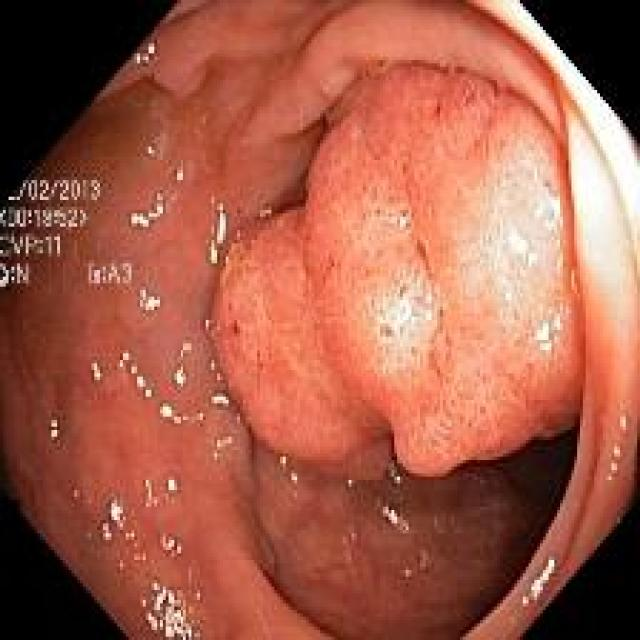Polyps: (212, 63, 582, 481)
